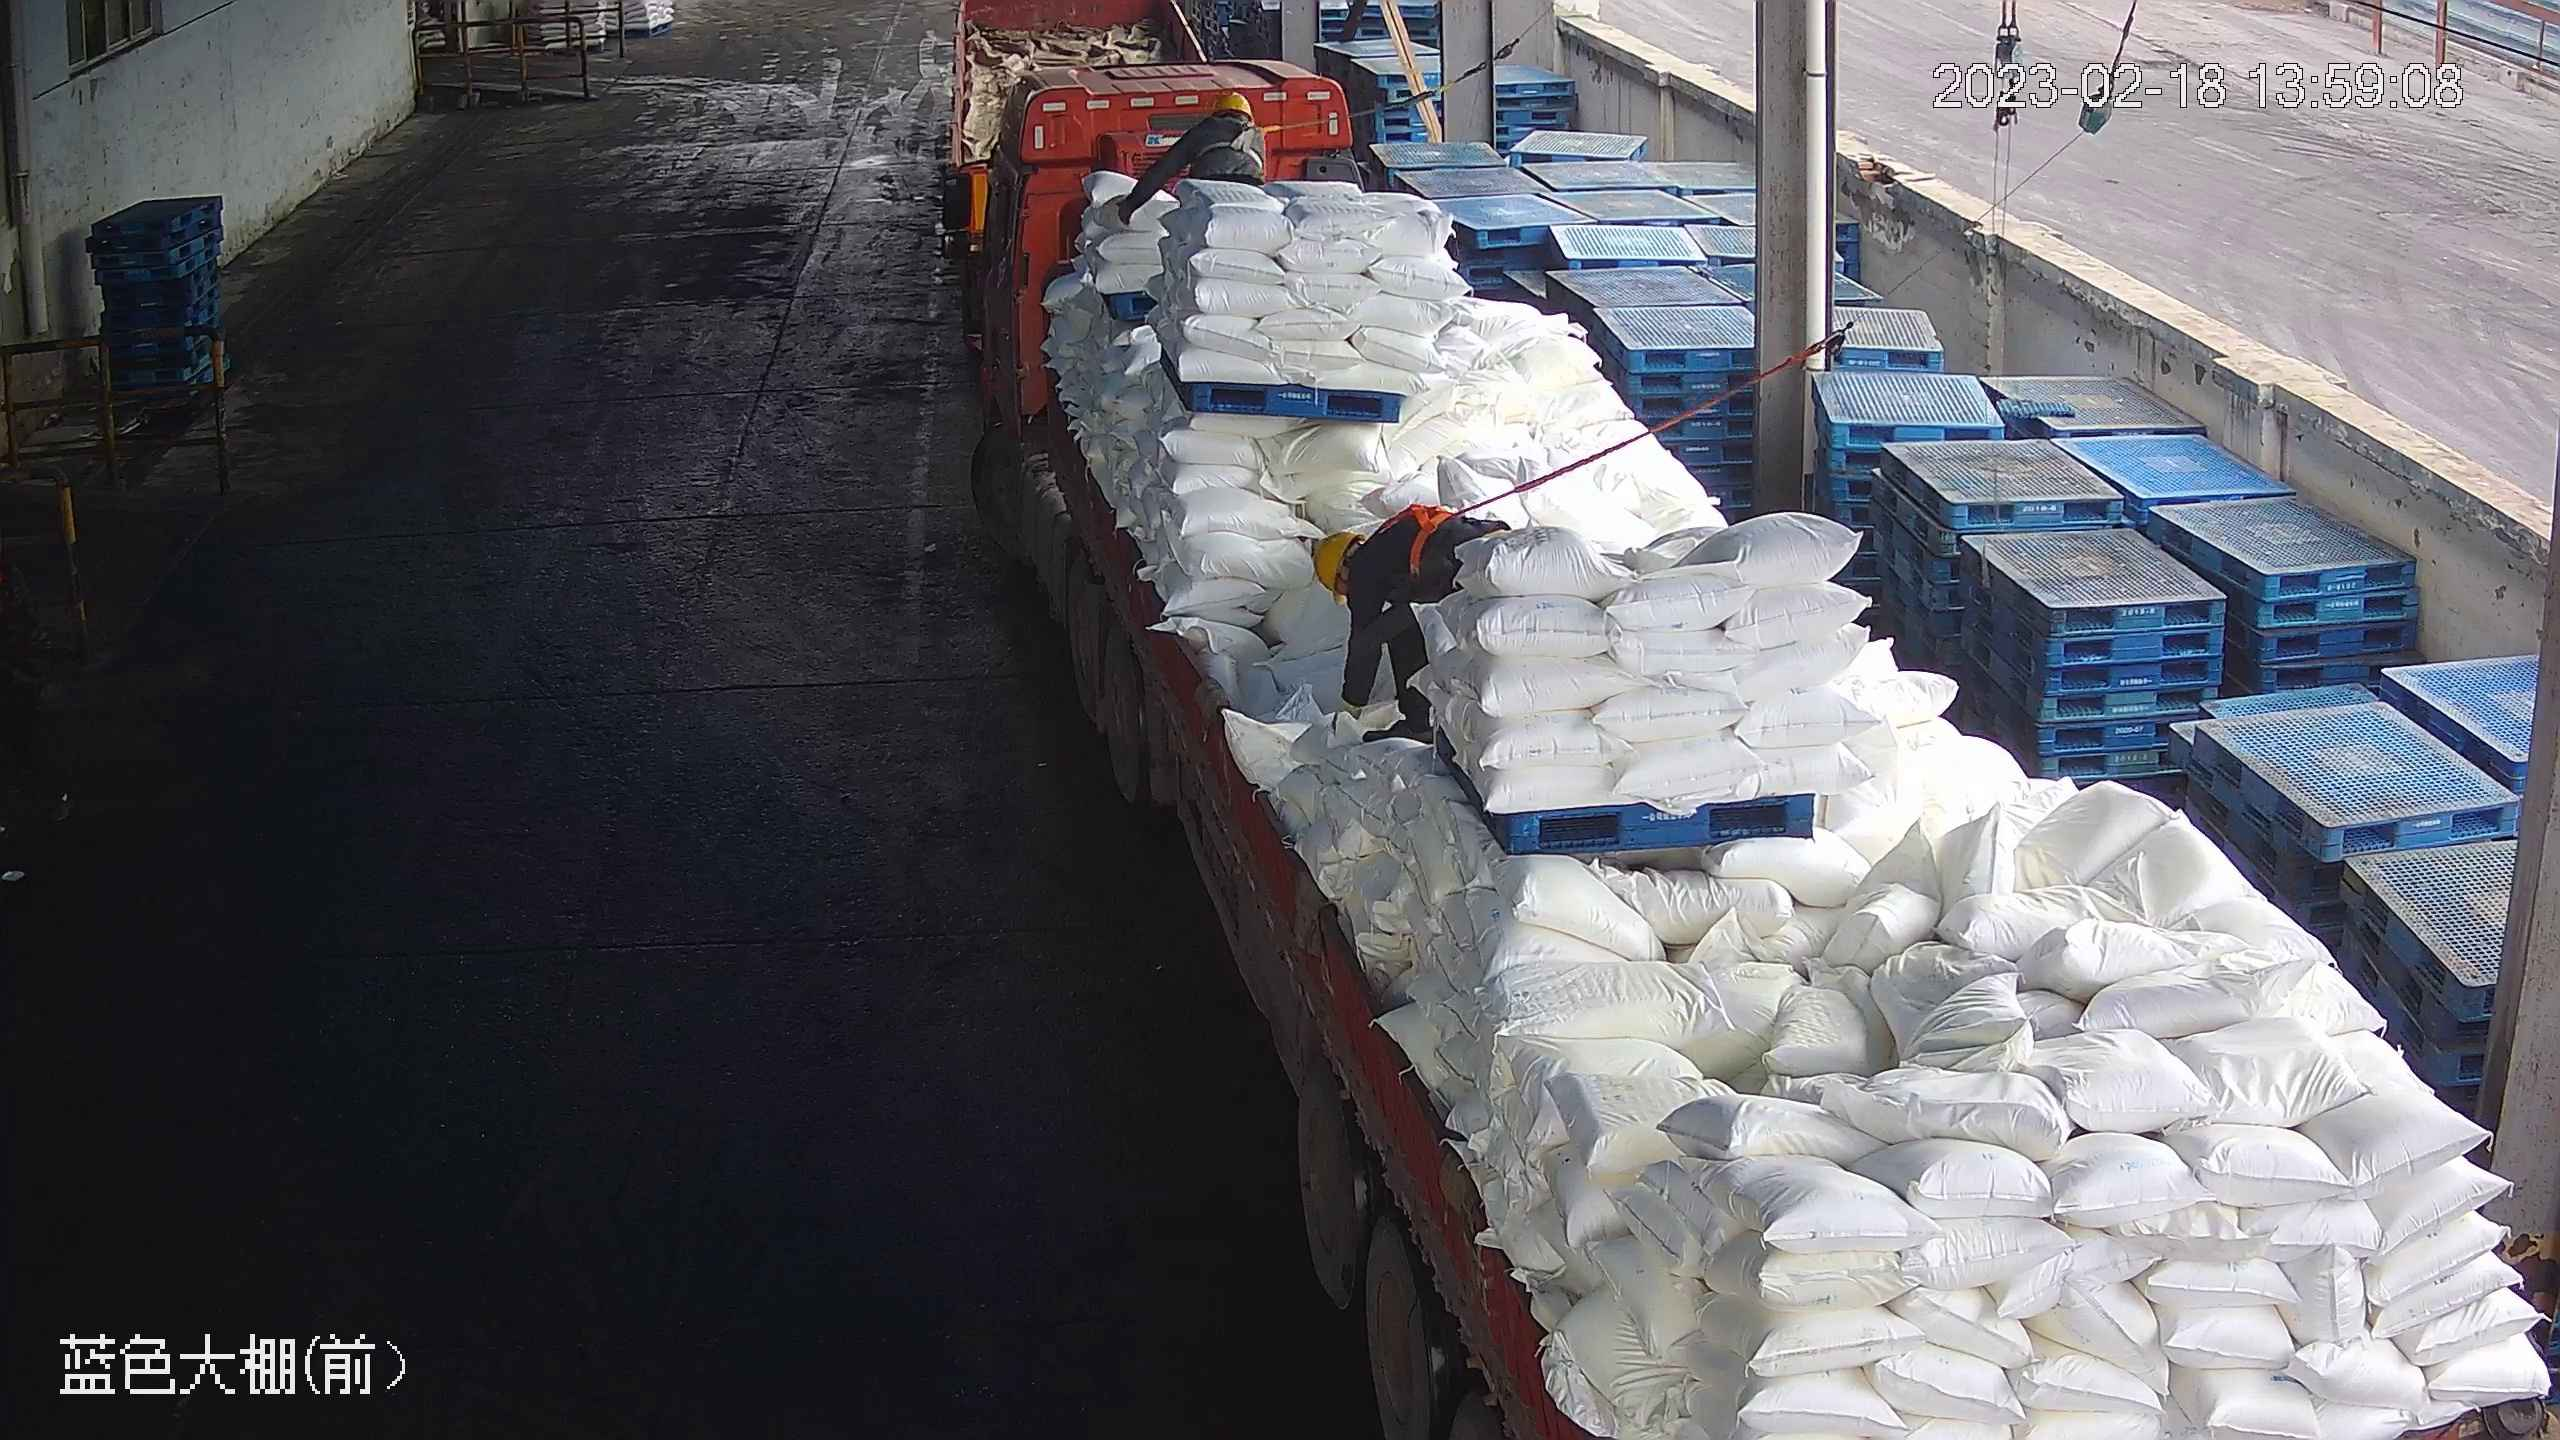belt: (1368, 494, 1477, 560), (1201, 115, 1261, 163)
head: (1305, 512, 1422, 611), (1181, 88, 1263, 152)
helmet: (1308, 528, 1359, 603), (1214, 88, 1257, 117)
people: (1308, 500, 1520, 749)
truck: (937, 54, 2554, 1440)
